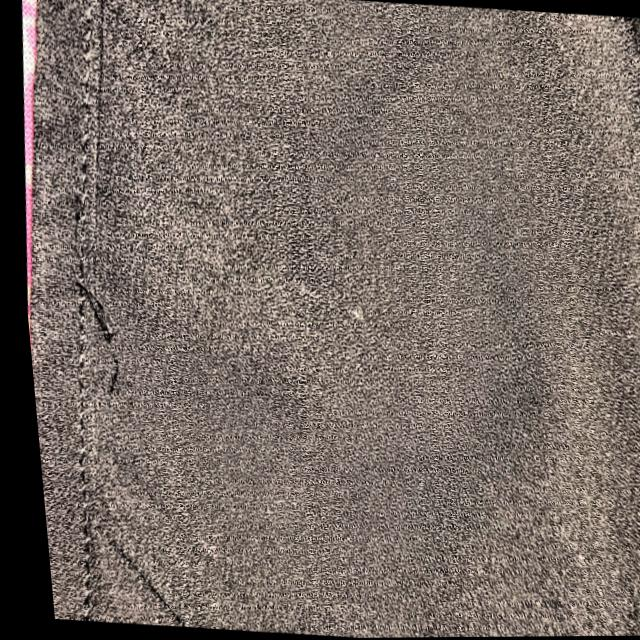Stitch: (17, 240, 157, 412)
